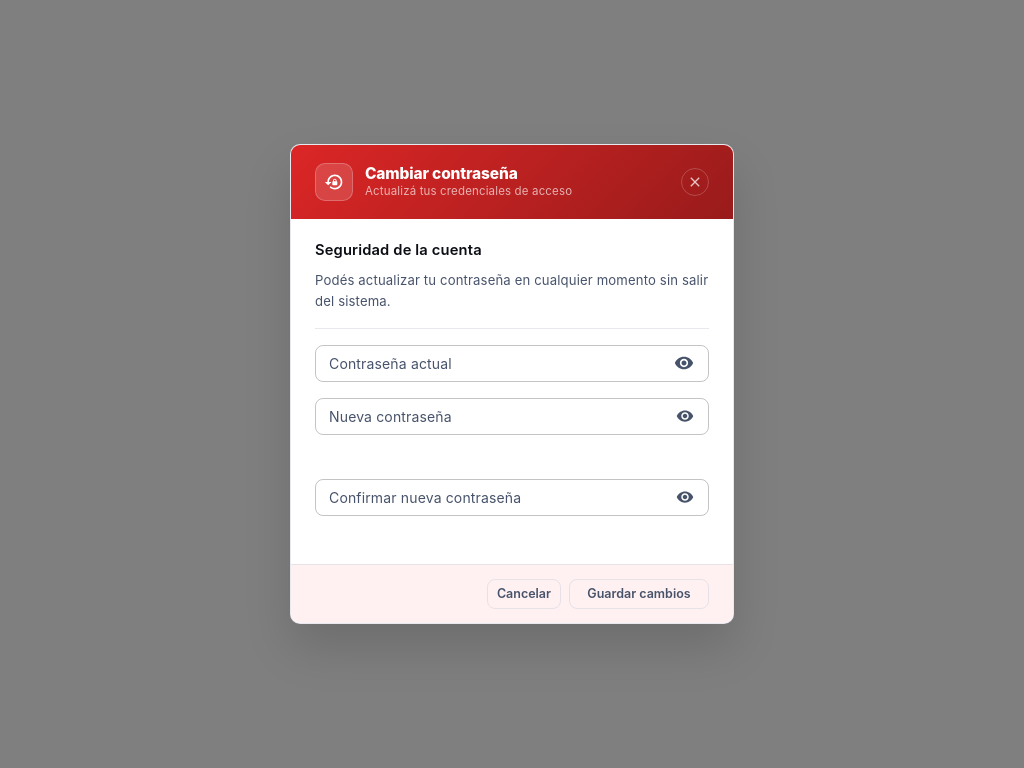
ChangePasswordModal › envía el cambio exitosamente
Step 1. Type "Actual#123" into the password field labelled "Contraseña actual" → x=488, y=363, box [315,344,662,382]
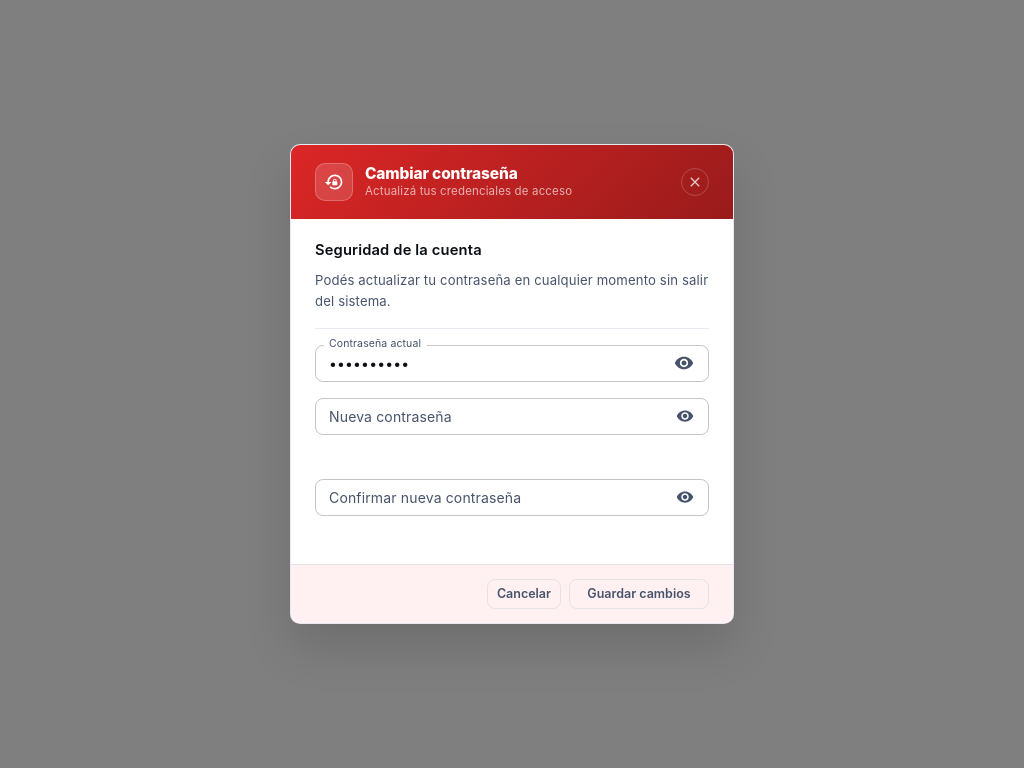
Step 2. Type "Nueva#123" into the password field labelled "Nueva contraseña" → x=490, y=416, box [315,398,664,435]
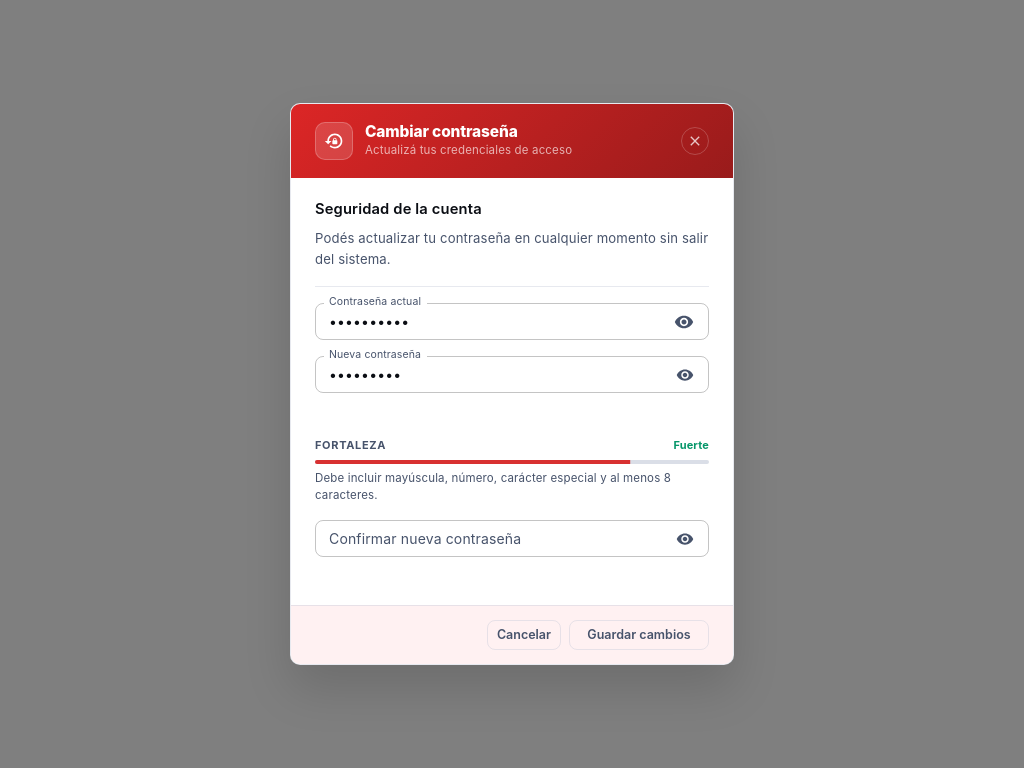
Step 3. Type "Nueva#123" into the password field labelled "Confirmar nueva contraseña" → x=490, y=539, box [315,520,664,557]
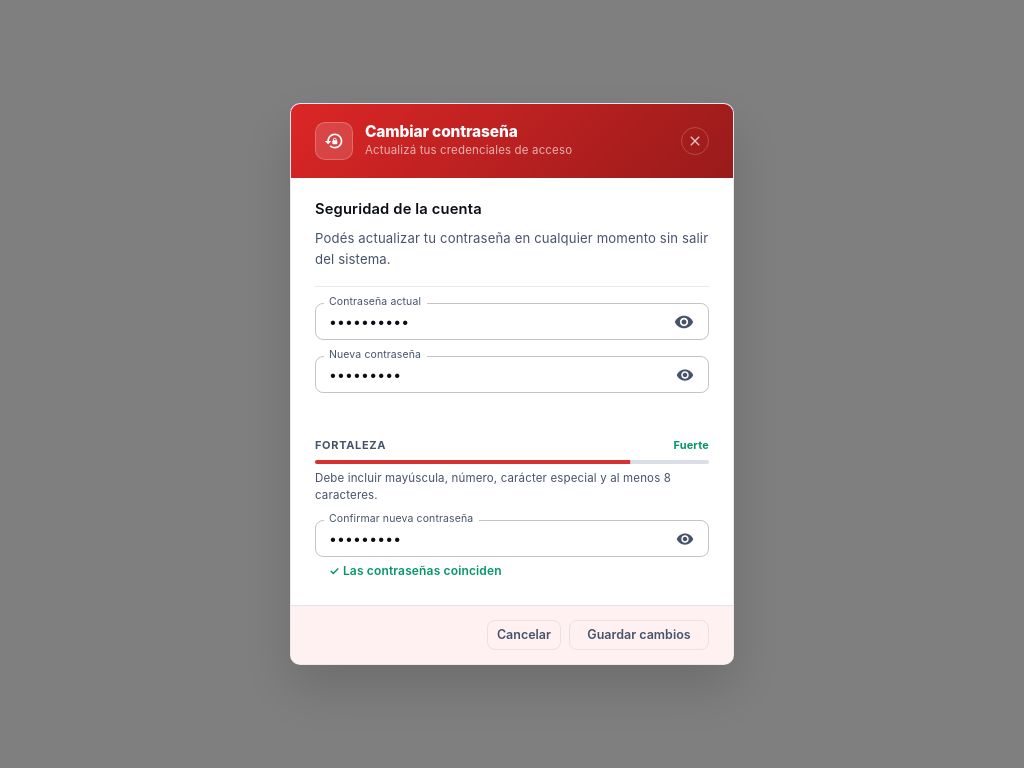
Step 4. Click the button "Guardar cambios" → x=639, y=635, box [569,620,709,650]
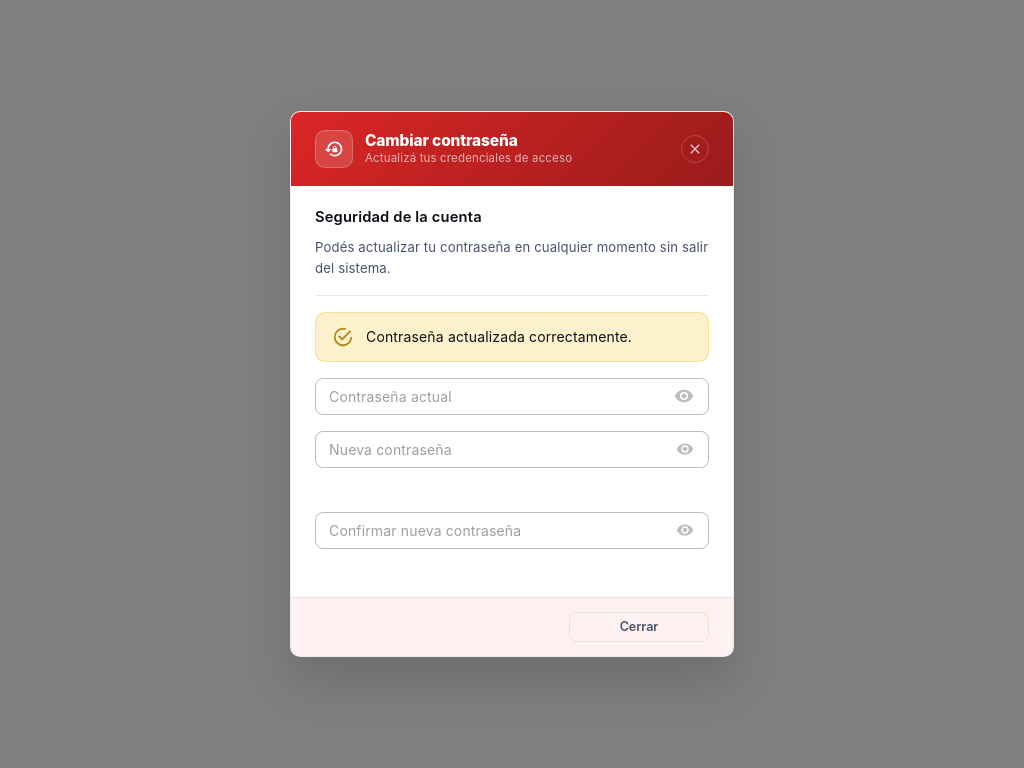
Check: the text "Contraseña actualizada correctamente." is shown, box [366,328,632,344]
Check: the button "Cerrar" is shown, box [569,612,709,642]
